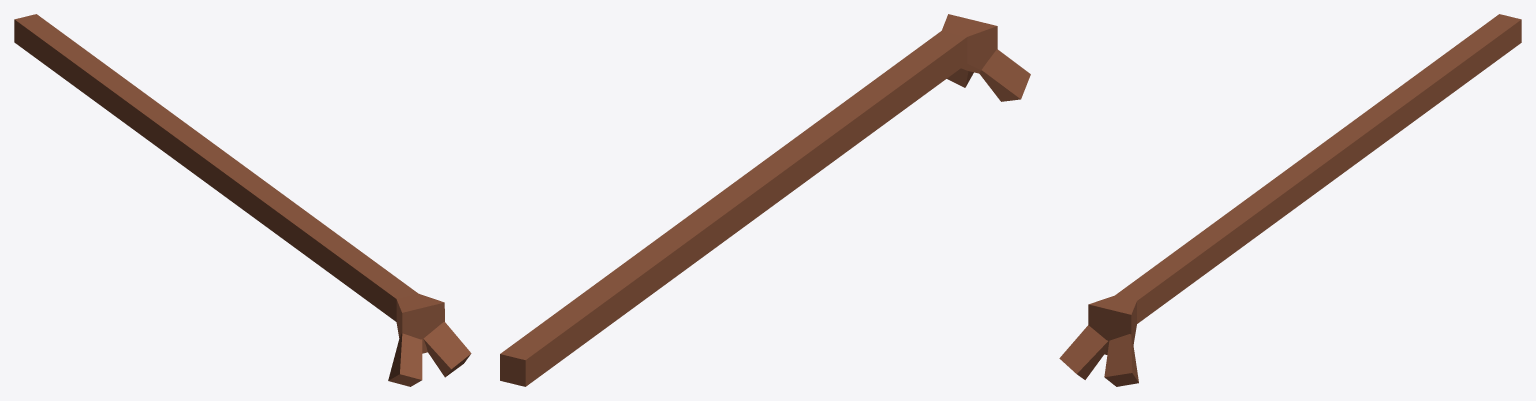
The model's file is cart_shaft.fbx.
3 renders of one model, left to right at view 1: azimuth 30°, elevation 25°; view 2: azimuth 150°, elevation 25°; view 3: azimuth 330°, elevation 25°, orthographic. The views are drawn at different scales.
Visible parts, largest first — view 1: shaft; view 2: shaft; view 3: shaft.
Boxes of the visible parts, box(x1,y1,x2,y2) form: shaft: box(14, 14, 471, 386); shaft: box(500, 14, 1030, 386); shaft: box(1059, 14, 1521, 386).
Bounding box in the file's own units: 28.36 × 25.94 × 276.
